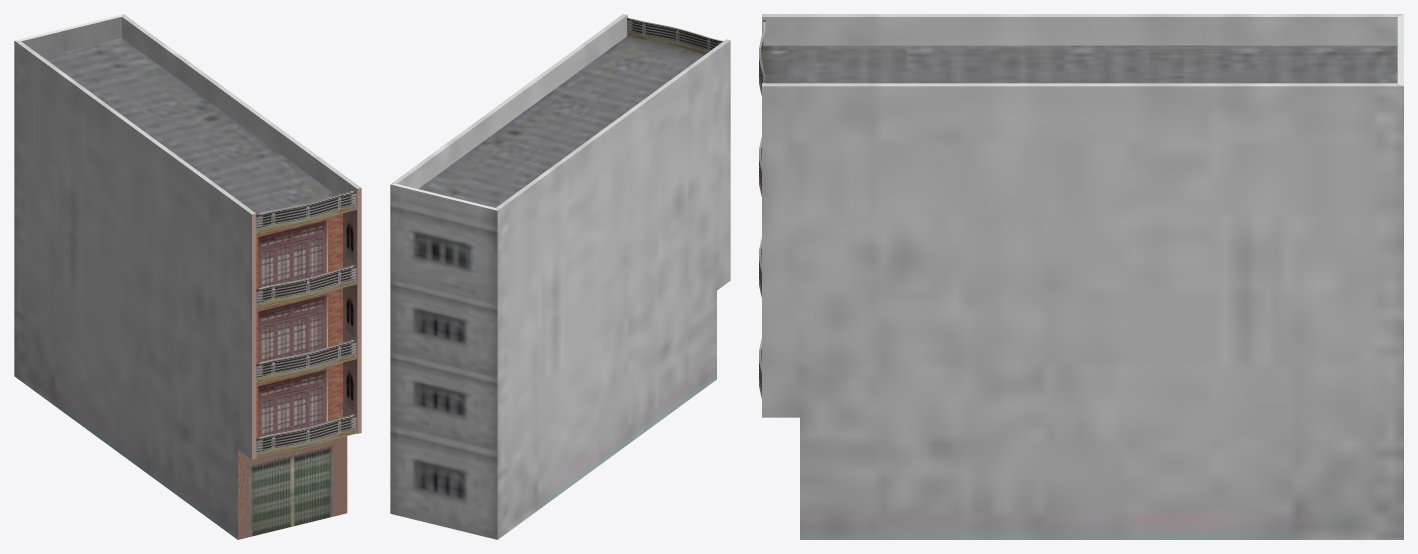
The picture shows the model from 3 angles, left to right: view 1: azimuth 30°, elevation 25°; view 2: azimuth 150°, elevation 25°; view 3: azimuth 270°, elevation 25°; orthographic projection. The views are drawn at different scales.
Visible parts, largest first — view 1: 5da93b00c66a21164047c6a6.001; view 2: 5da93b00c66a21164047c6a6.001; view 3: 5da93b00c66a21164047c6a6.001.
Boxes of the visible parts, left/top/right/bottom form: 5da93b00c66a21164047c6a6.001: left=14, top=14, right=361, bottom=539; 5da93b00c66a21164047c6a6.001: left=390, top=14, right=730, bottom=539; 5da93b00c66a21164047c6a6.001: left=759, top=14, right=1403, bottom=539.
Size of the model in its own units: 5.38 by 15.75 by 20.29.
Materials: 1 (1 with a texture image).
